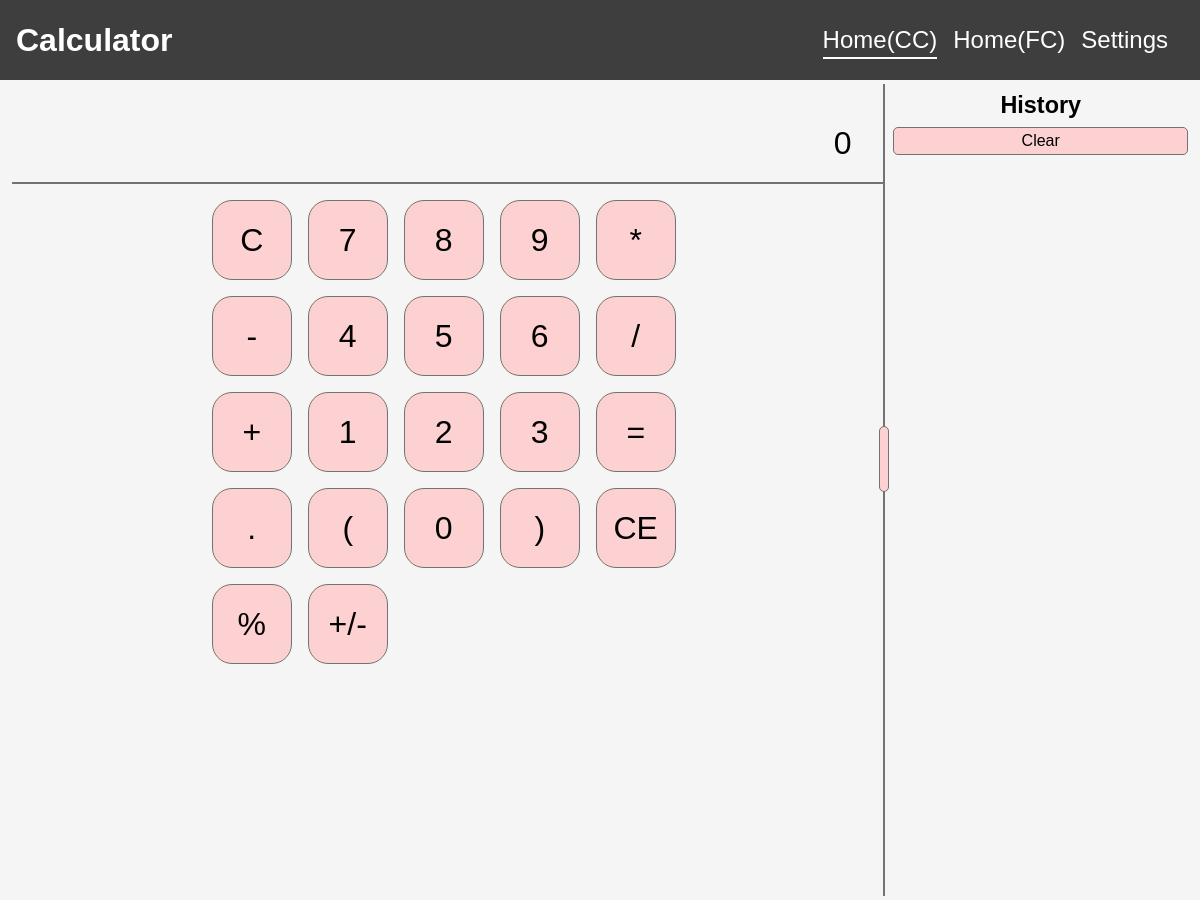
Display › should clean valid bracket group with "(" click
Click the button with test id "button-(".
click(348, 528)  # box left=308, top=488, right=388, bottom=568
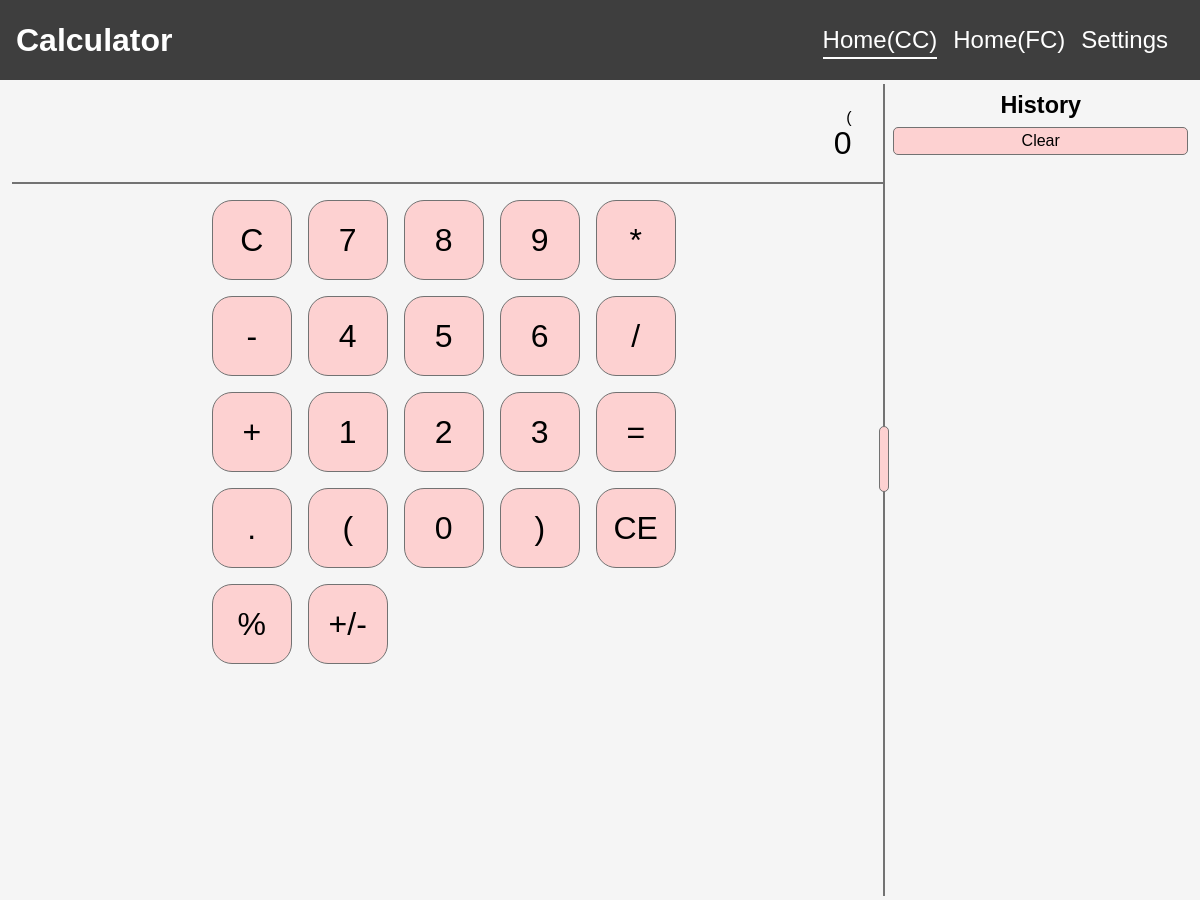
Click the button with test id "button-9".
click(540, 240)  # box left=500, top=200, right=580, bottom=280
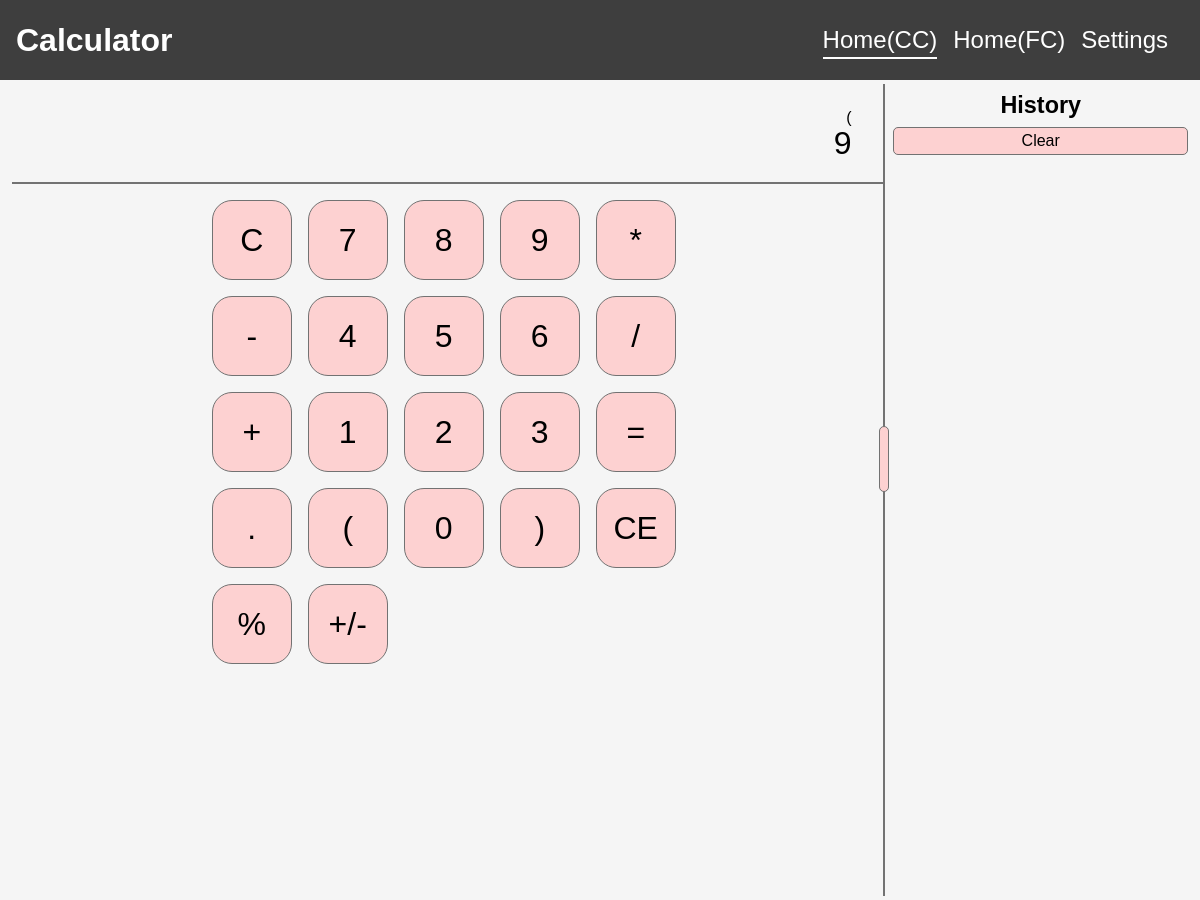
Click the button with test id "button-+".
click(252, 432)  # box left=212, top=392, right=292, bottom=472
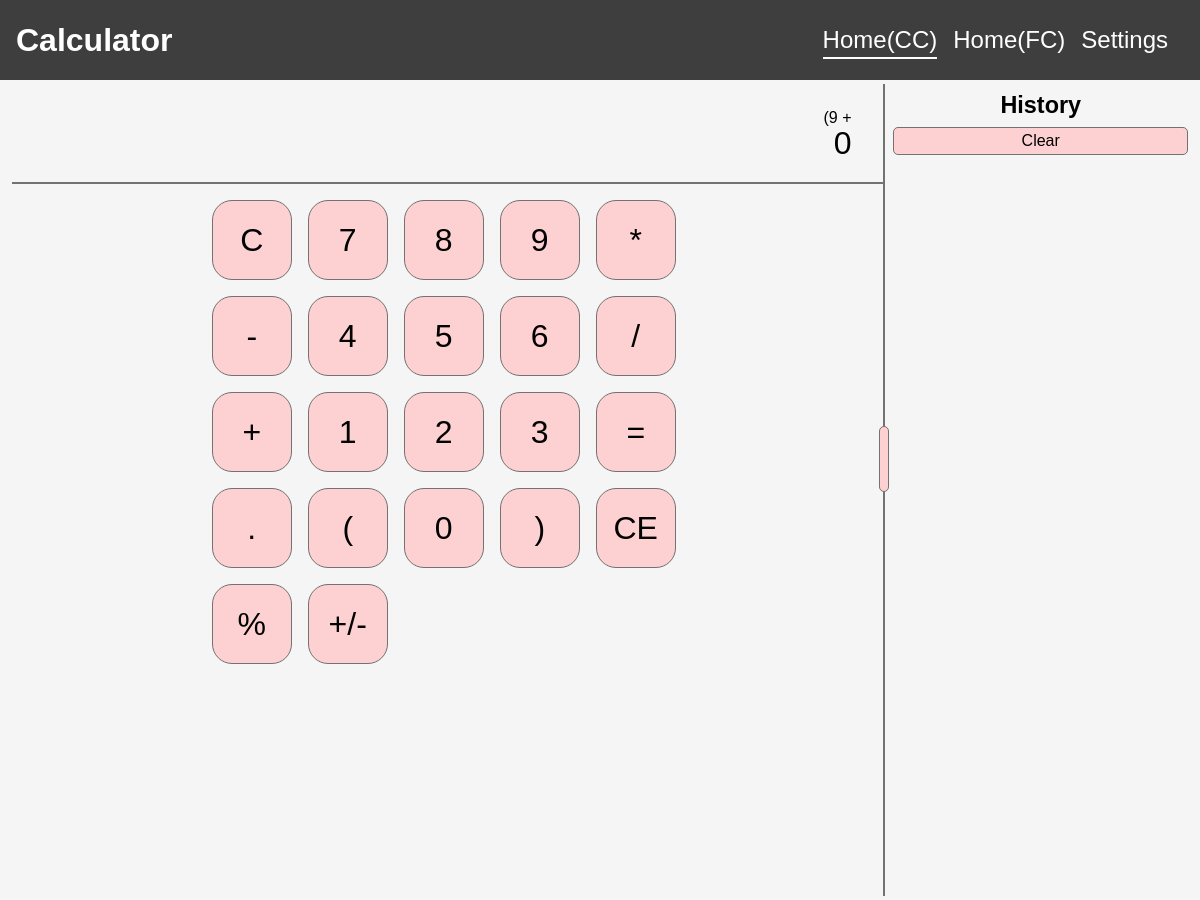
Click the button with test id "button-9".
click(540, 240)  # box left=500, top=200, right=580, bottom=280
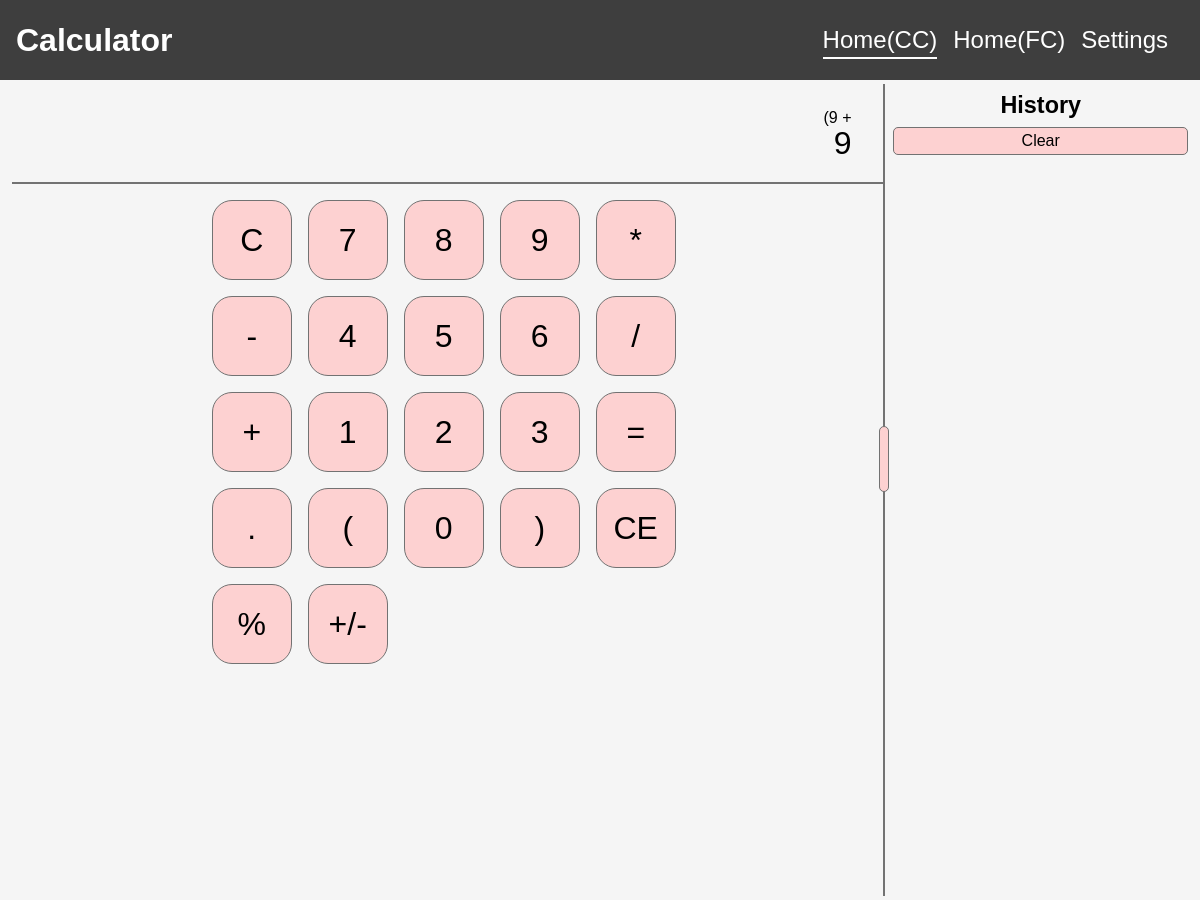
Click the button with test id "button-)".
click(540, 528)  # box left=500, top=488, right=580, bottom=568
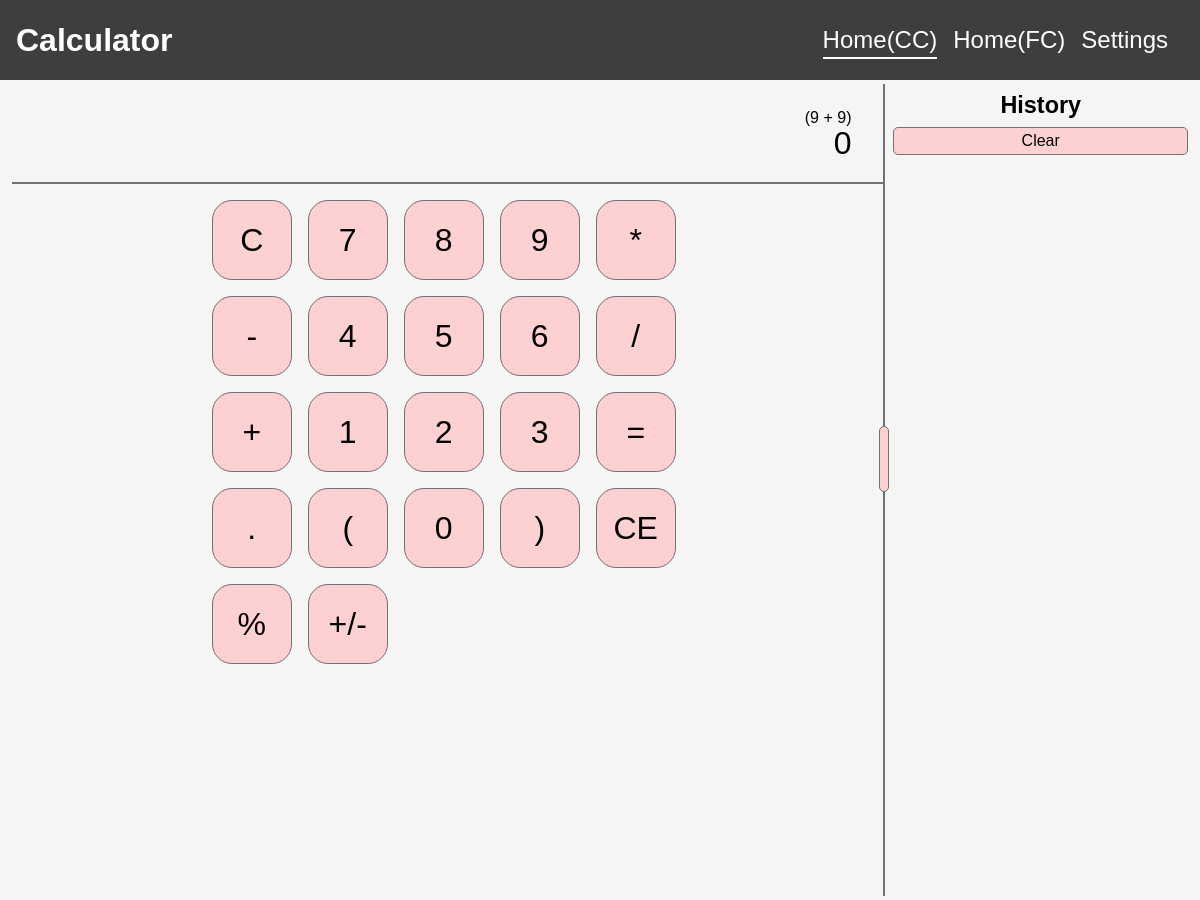
Expected: the text with test id "display-expression" reads "(9 + 9)", left=805, top=109, right=852, bottom=125
Click the button with test id "button-(".
click(348, 528)  # box left=308, top=488, right=388, bottom=568
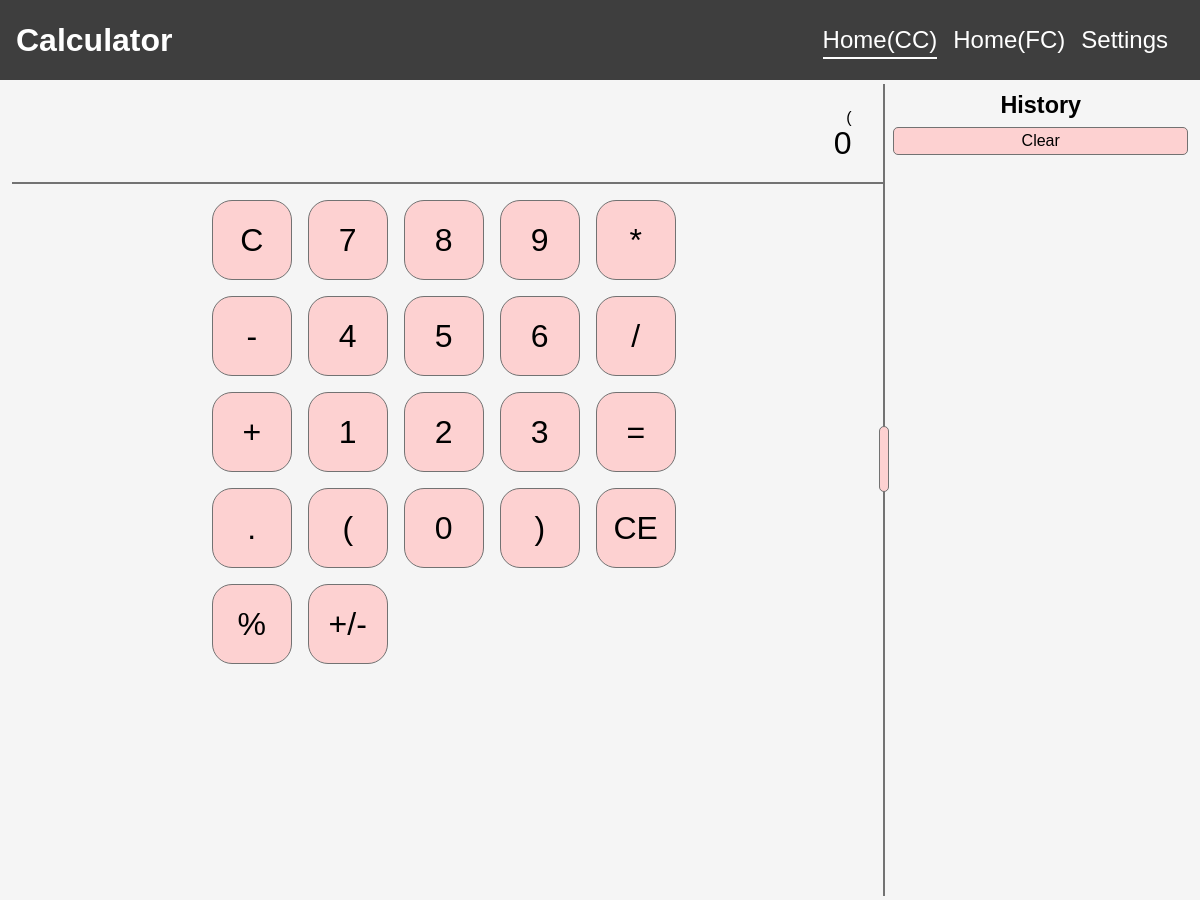
Expected: the text with test id "display-expression" reads "(", left=846, top=109, right=851, bottom=125
